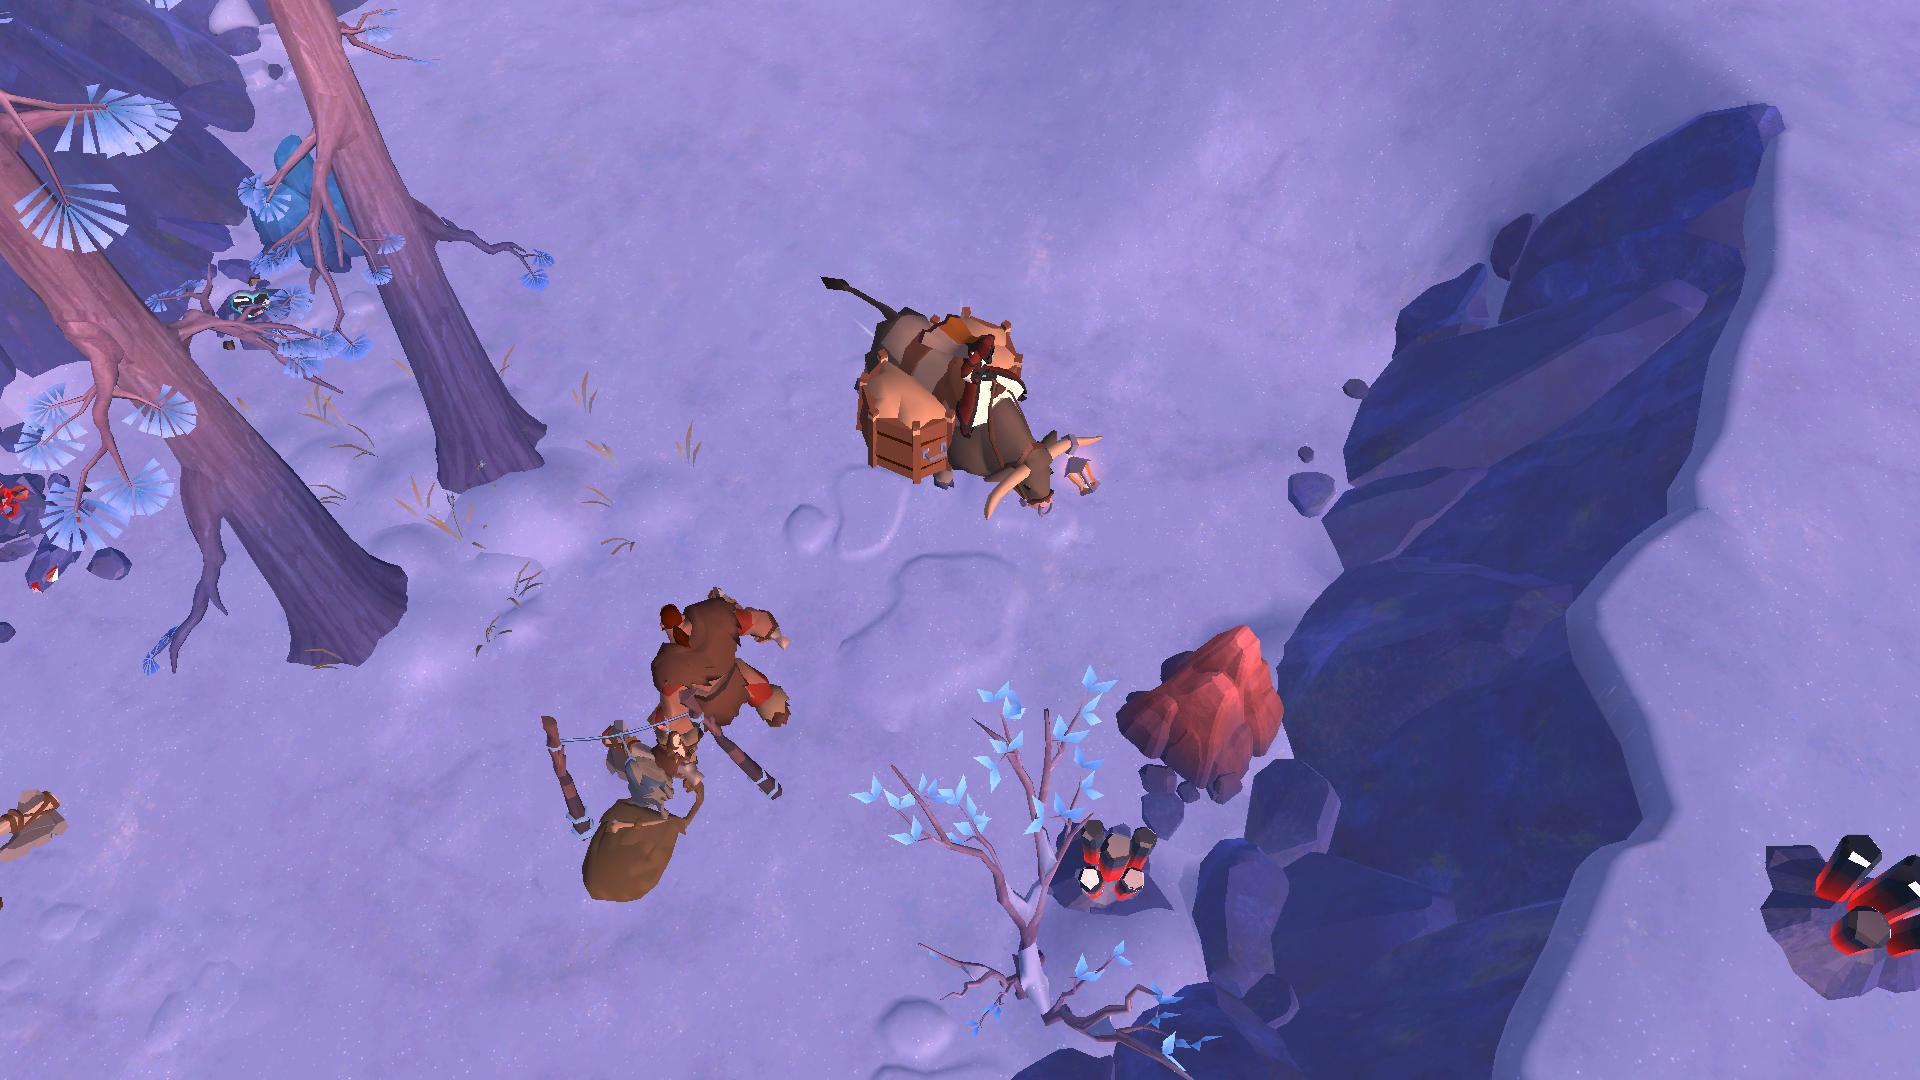ore_t5: (1800, 828, 1920, 961)
rock_t4: (241, 136, 410, 274)
rock_t5: (1116, 615, 1291, 799)
